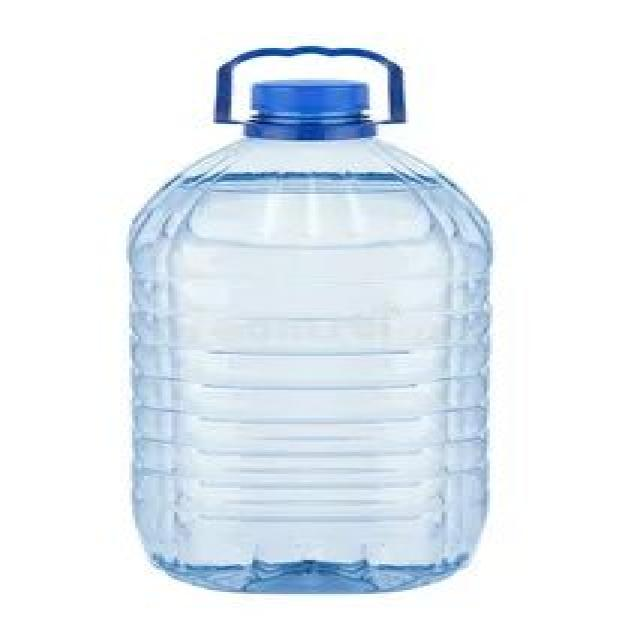blue: (122, 127, 490, 593)
